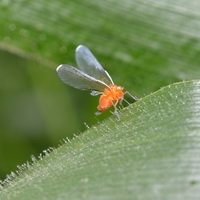insect: (56, 45, 137, 119)
